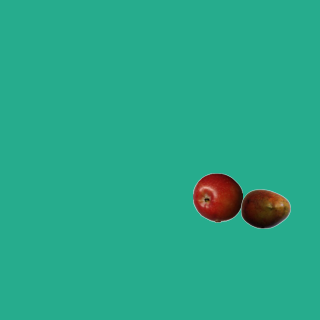Apple Braeburn: (192, 172, 242, 222)
Mango Red: (240, 183, 290, 233)
